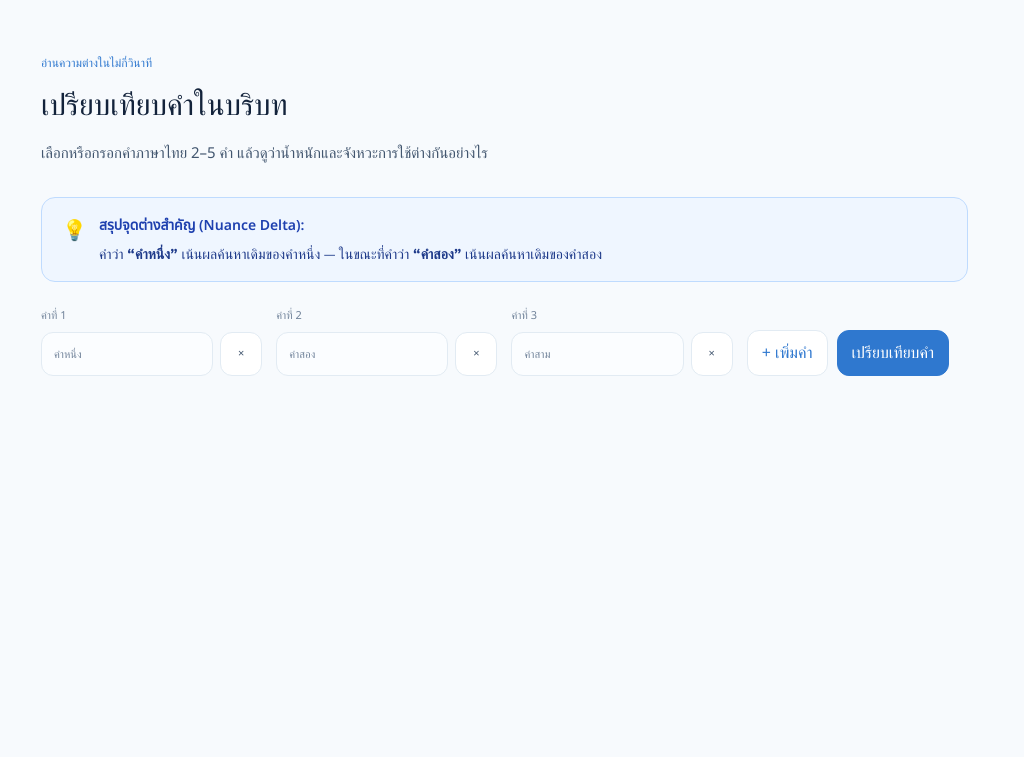
ContextComparator › submits three selected words and renders only the real API result
Click the button "เปรียบเทียบคำ" at [893, 353], box [836, 330, 949, 376]
(page scrolled)
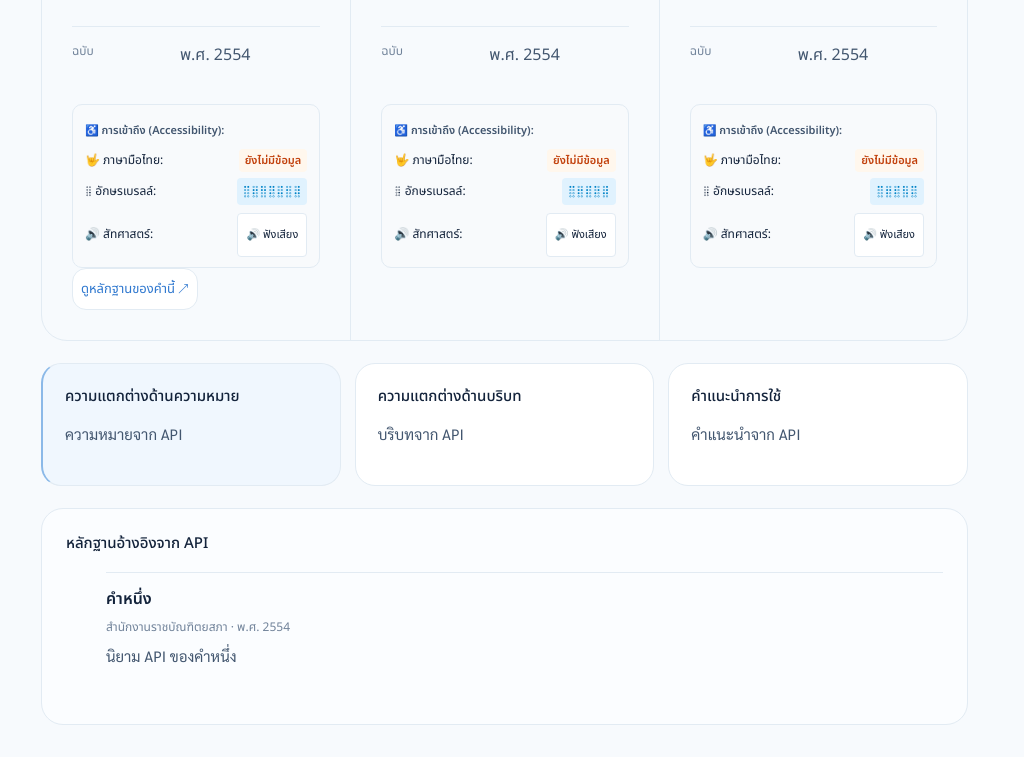
Expected: the text "ผลค้นหาเดิมของคำหนึ่ง" is not shown
Expected: the text "ความหมายจาก API" is shown, [65, 424, 183, 443]
Expected: the heading "หลักฐานอ้างอิงจาก API" is shown, [66, 532, 208, 555]
